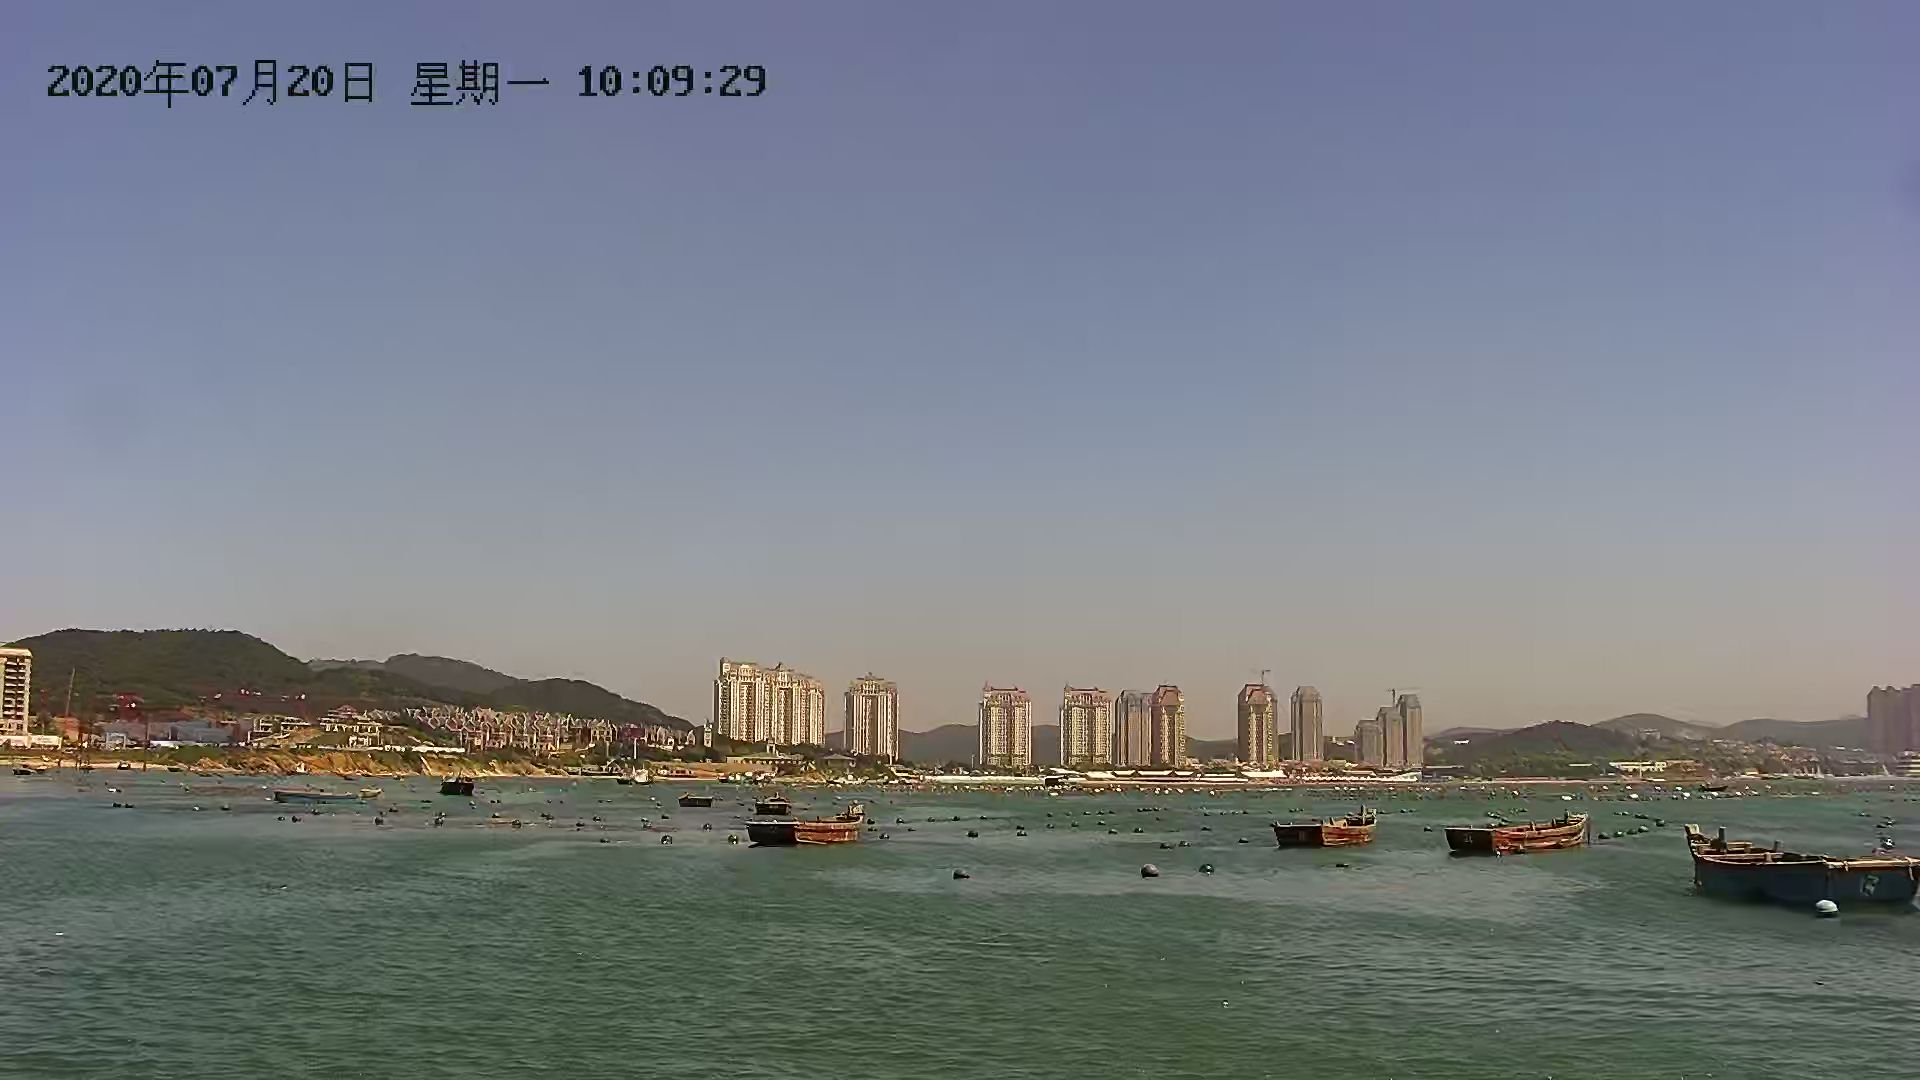ball: (1816, 893, 1840, 924), (947, 866, 975, 887), (1196, 858, 1218, 877), (1139, 861, 1158, 882)
boat: (1677, 808, 1917, 916), (1447, 811, 1592, 862), (742, 807, 872, 851), (1271, 807, 1381, 851)
